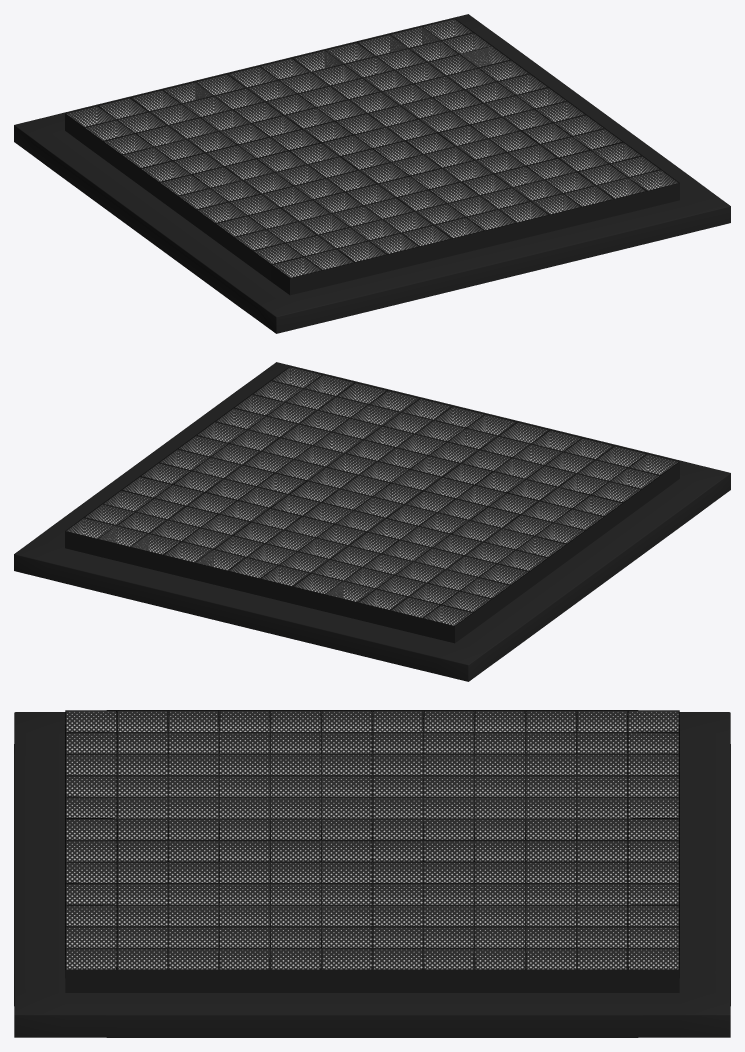
Rendered from animated_dance_floor_neon_lights.glb.
3 views of the same model, one above another, from view 1: azimuth 30°, elevation 25°; view 2: azimuth 150°, elevation 25°; view 3: azimuth 270°, elevation 25° (orthographic). The views are drawn at different scales.
Visible parts, largest first — view 1: Base_0; view 2: Base_0; view 3: Base_0.
Boxes of the visible parts, box(x1,y1,x2,y2) form: Base_0: box(14, 14, 730, 333); Base_0: box(14, 362, 730, 681); Base_0: box(14, 710, 730, 1037).
Size of what is drawn, in the model's own units: 7.02 by 0.5 by 7.02.
3 materials, 1 textured.
